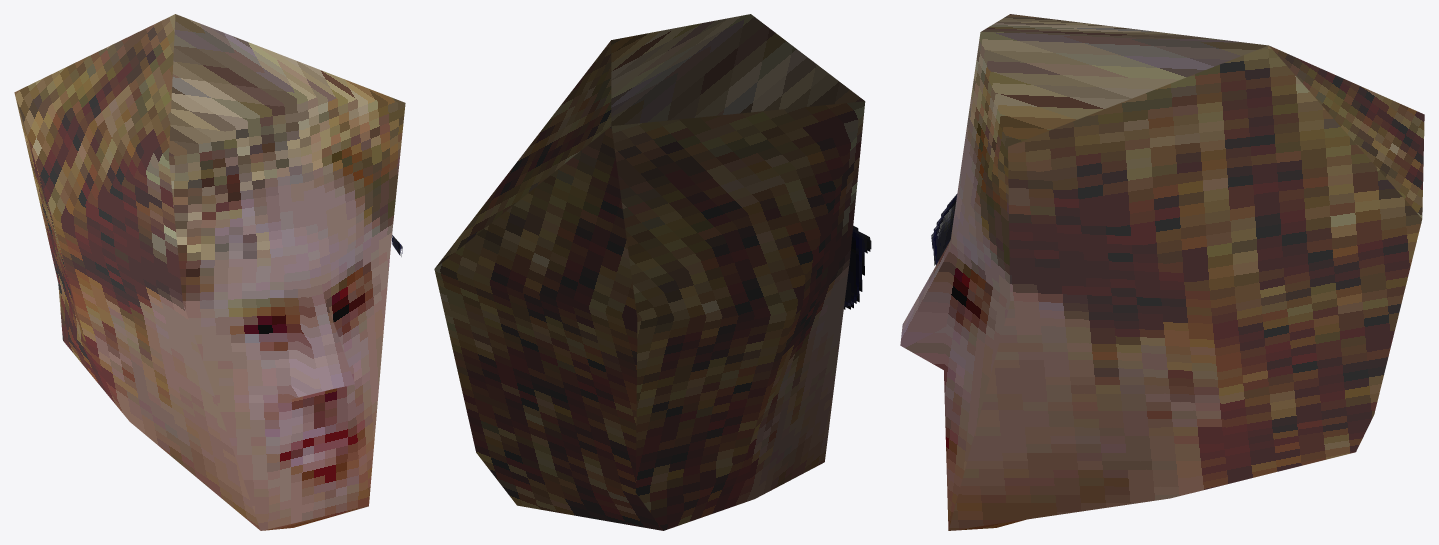
File: CheadgrantZ.obj
3 renders of one model, left to right at view 1: azimuth 30°, elevation 25°; view 2: azimuth 150°, elevation 25°; view 3: azimuth 270°, elevation 25°, orthographic. The views are drawn at different scales.
Bounding box in the file's own units: 165 × 239 × 229.
Materials: 7 (7 with a texture image).
